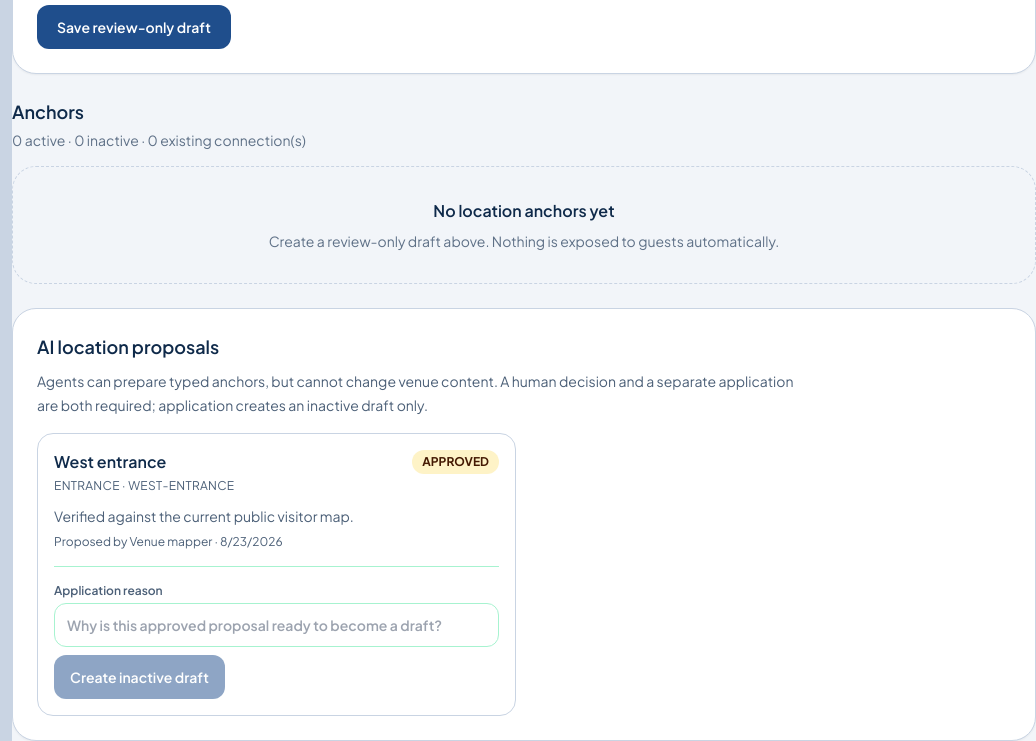
Test: VenueLocationAuthoring › shows agent proposals as review-only and separately applies human approval
The width and height of the screenshot is (1036, 741).
(page scrolled)
Expected: the text "A human decision and a separate application are both required" is shown, [37,372,794,414]
Expected: the button "Create inactive draft" is disabled, [54,655,225,699]
Type "Reviewed the exact approved payload." into the field labelled "Application reason" at (276, 625), box [54,603,499,647]
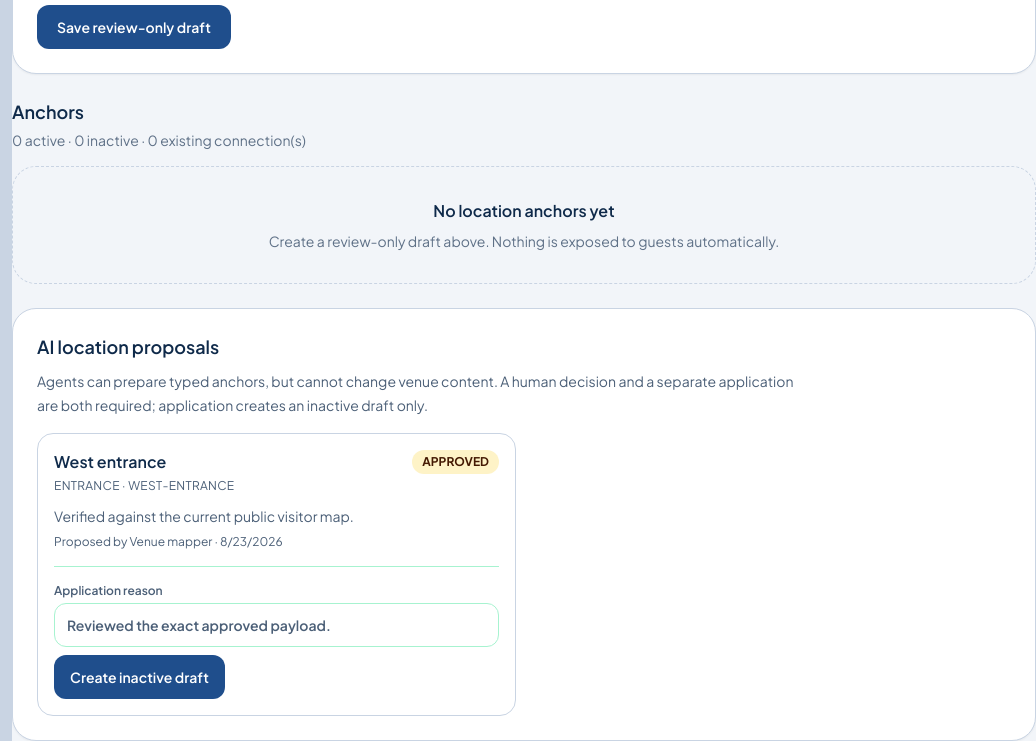
Click the button "Create inactive draft" at (139, 677), box [54,655,225,699]
(page scrolled)
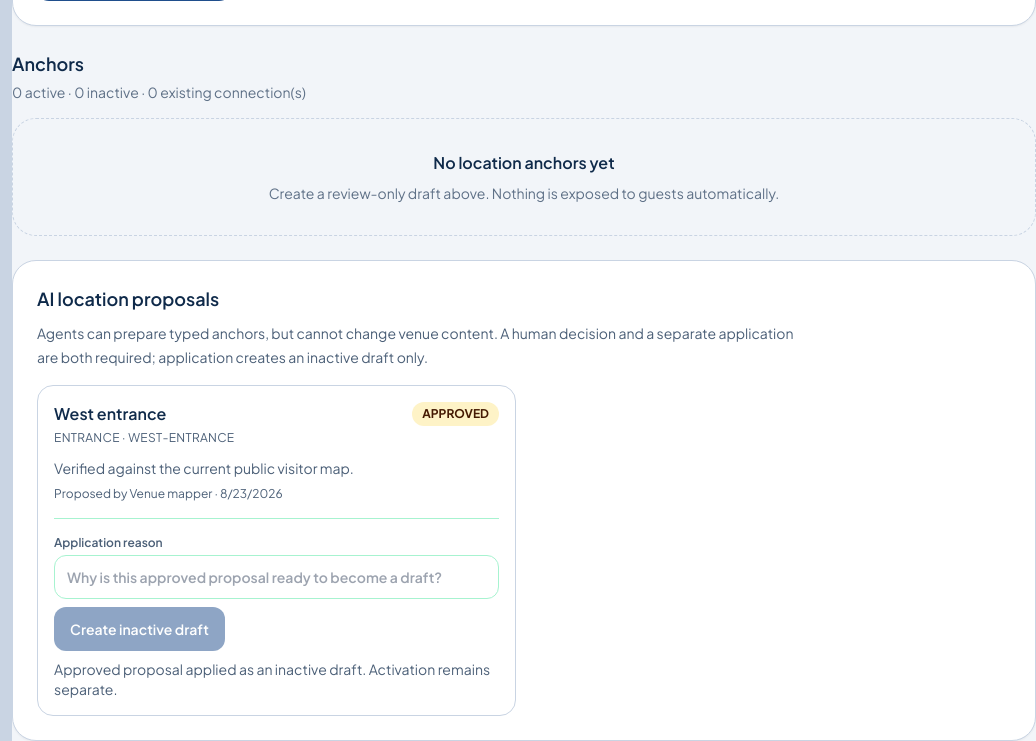
Expected: the text "Approved proposal applied as an inactive draft. Activation remains separate." is shown, [54,659,499,699]
